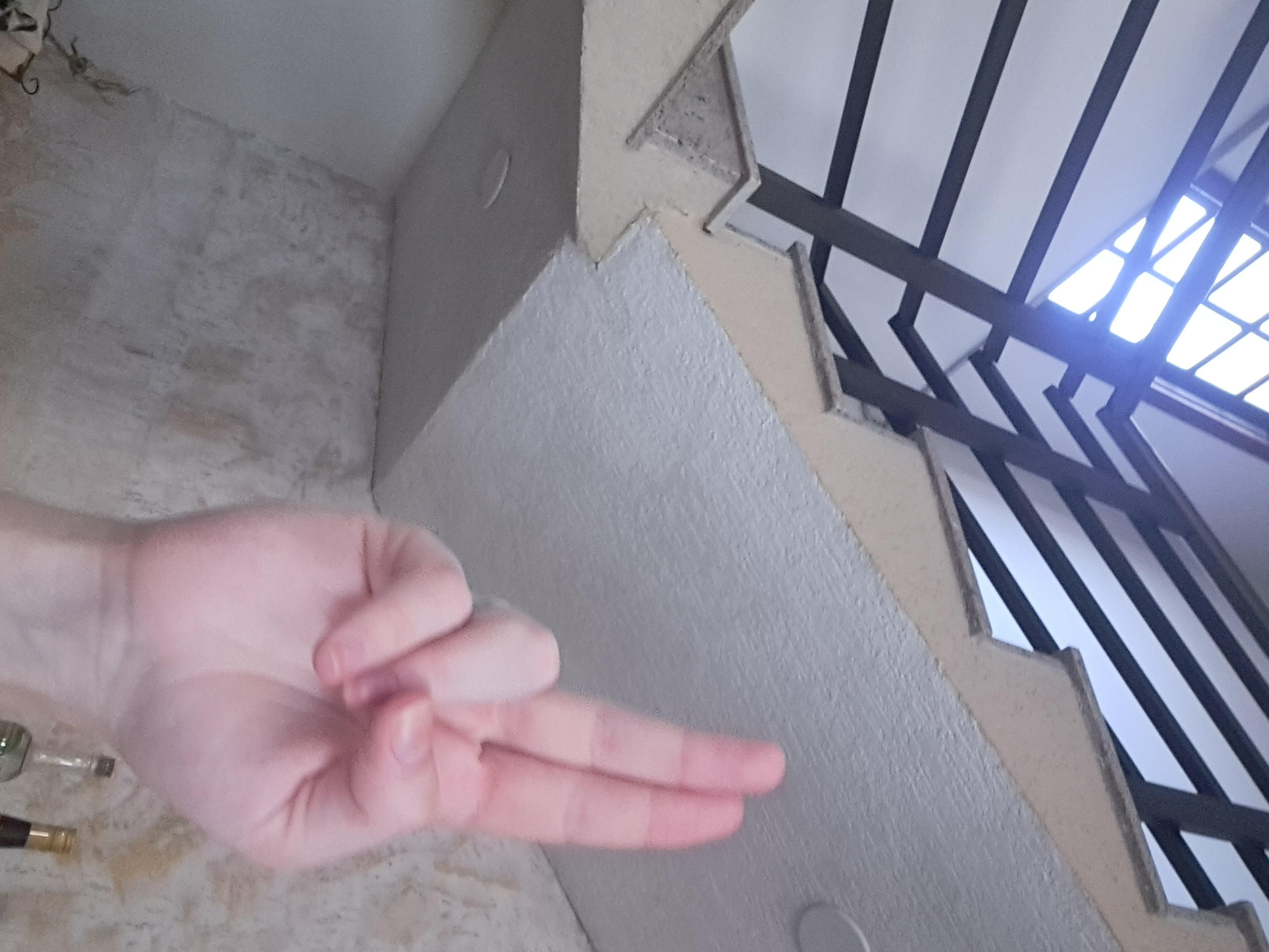U: (648, 318, 1182, 872)
